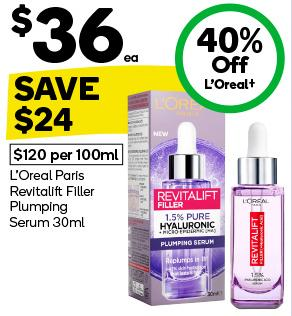description_block: (5, 167, 103, 237)
price_main: (6, 3, 145, 66)
product_image_block: (125, 82, 287, 312)
promo_text_block: (3, 68, 140, 139)
unit_price_block: (7, 141, 125, 167)
